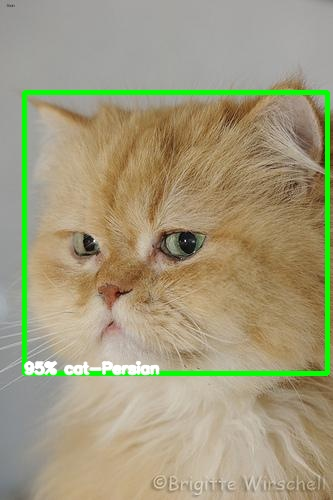cat-Persian: (28, 81, 325, 380)
